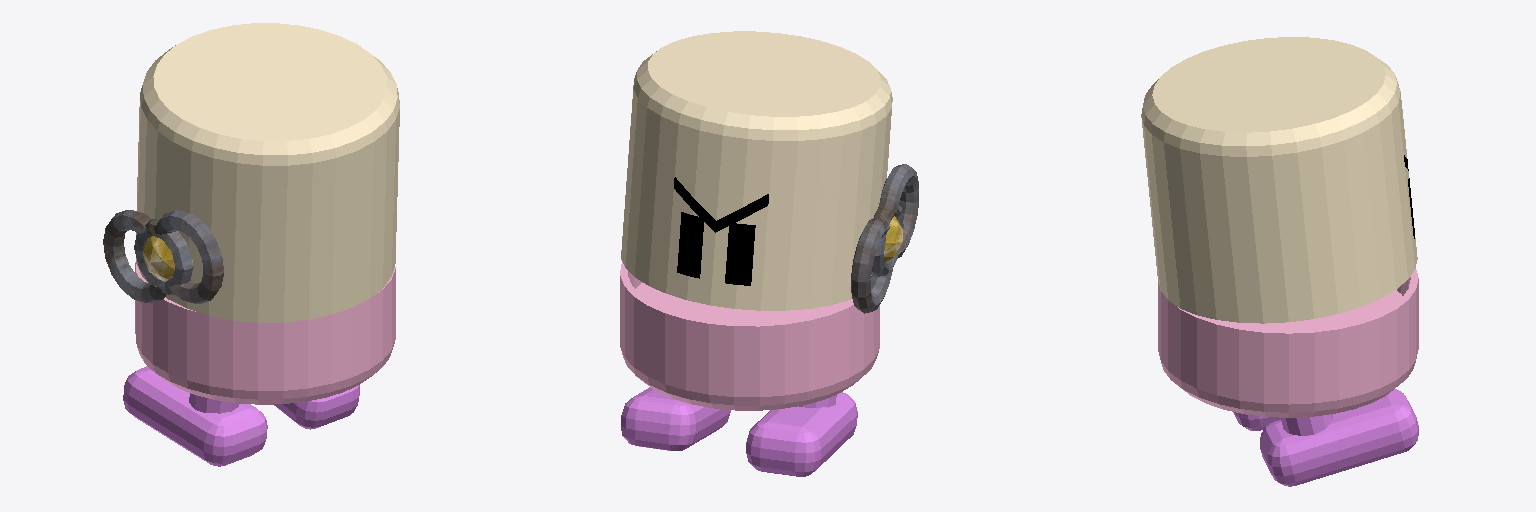
3 views of the same model, side by side, from view 1: azimuth 30°, elevation 25°; view 2: azimuth 150°, elevation 25°; view 3: azimuth 270°, elevation 25° (orthographic).
Parts seen in each view (by area): view 1: Head, Jaw, WindupKey, LeftLeg, RightLeg; view 2: Head, Jaw, LeftLeg, WindupKey, RightLeg; view 3: Head, Jaw, RightLeg.
Part boxes in pixels (x1,y1,x2,y2): Head: (136, 23, 399, 322); Jaw: (135, 262, 395, 404); WindupKey: (103, 210, 223, 303); LeftLeg: (123, 366, 267, 466); RightLeg: (274, 385, 359, 429); Head: (621, 31, 892, 310); Jaw: (620, 262, 879, 410); LeftLeg: (746, 392, 857, 476); WindupKey: (851, 164, 918, 313); RightLeg: (621, 387, 730, 450); Head: (1141, 37, 1417, 323); Jaw: (1158, 269, 1418, 417); RightLeg: (1260, 389, 1418, 486).
Bounding box in the file's own units: 112 × 157 × 106.
Materials: 6 (2 with a texture image).